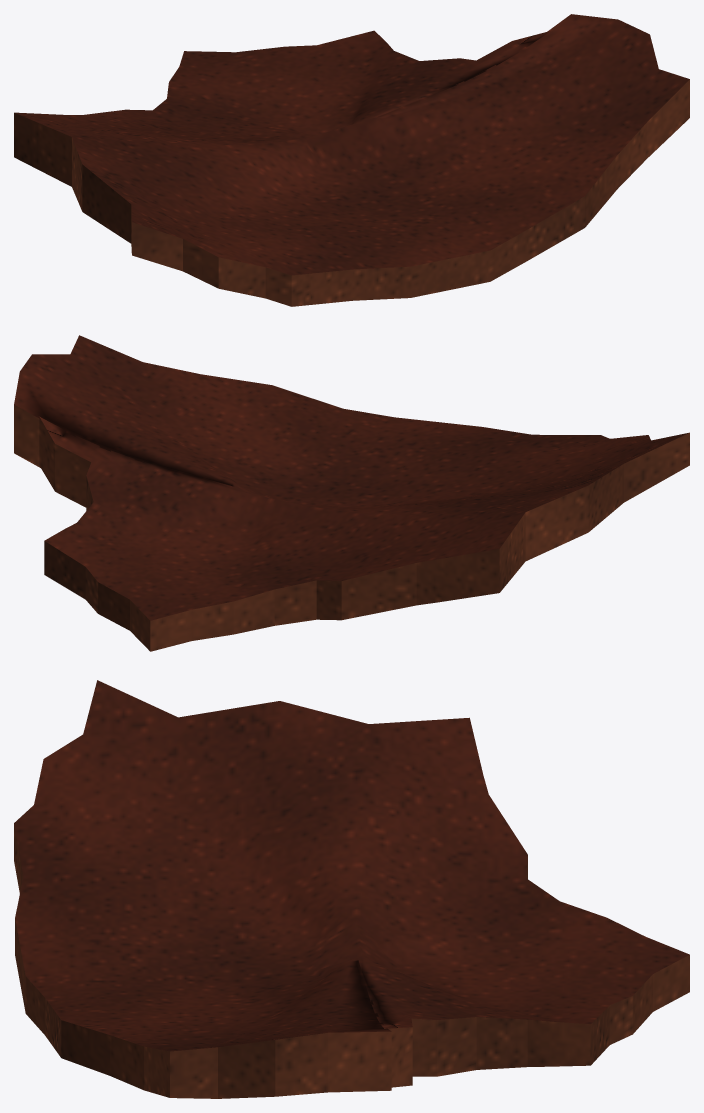
Rendered from valdora_keepsake.glb.
The picture shows the model from 3 angles, top to bottom: view 1: azimuth 30°, elevation 25°; view 2: azimuth 150°, elevation 25°; view 3: azimuth 270°, elevation 25°; orthographic projection. The views are drawn at different scales.
Visible parts, largest first — view 1: valdora_keepsake; view 2: valdora_keepsake; view 3: valdora_keepsake.
Part boxes in pixels (x1,y1,x2,y2): valdora_keepsake: (14,14,689,306); valdora_keepsake: (14,335,689,651); valdora_keepsake: (14,680,689,1098).
Size of the model in its own units: 0.0594 by 0.0115 by 0.049.
Materials: 2 (2 with a texture image).
